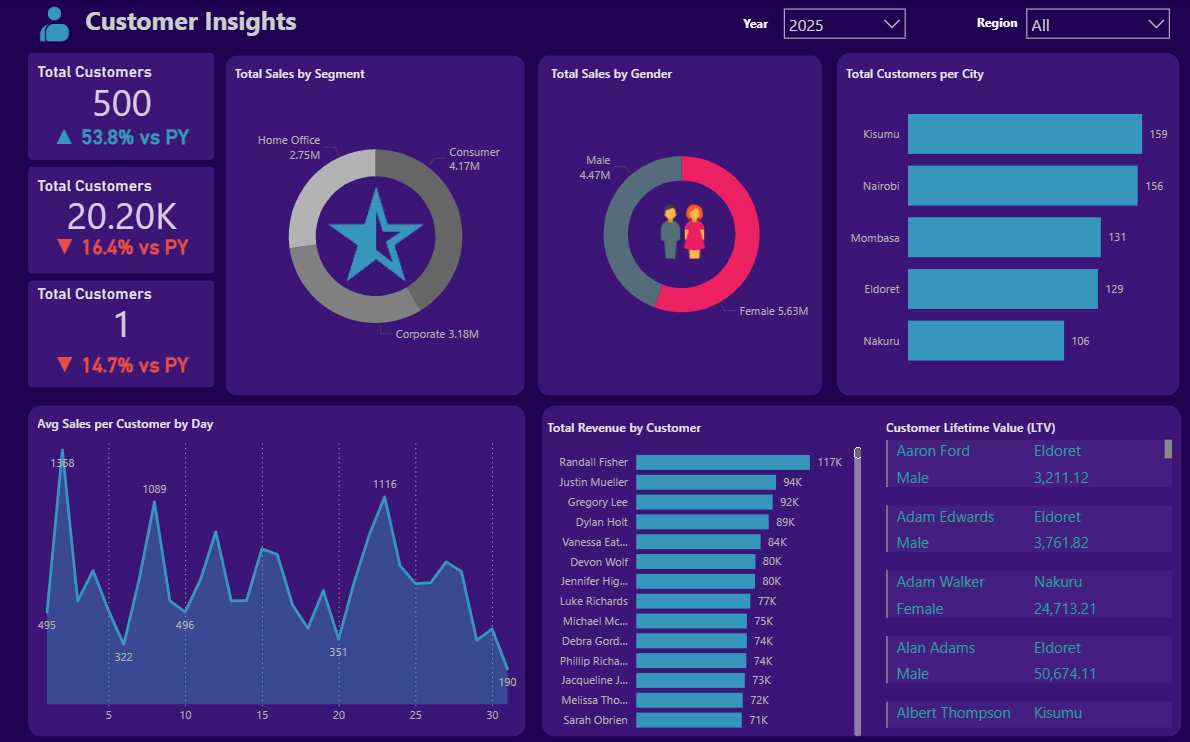

This screenshot's page, from the dashboard's own definition file:
{"tool":"powerbi","page":{"name":"Customer Insights","canvas":[1280,800],"ordinal":3},"visuals":[{"type":"shape","box":[244.3,60.4,321.1,365],"z":0},{"type":"image","box":[338.9,189.4,133.1,135.8],"z":1000},{"type":"donutChart","fields":{"Category":["Customers.Segment"],"Y":["All Measures.Total Sales"]},"box":[244.3,60.4,321.1,365],"z":2000},{"type":"shape","box":[31.6,57.6,200,115],"z":3000},{"type":"slicer","fields":{"Values":["Orders.OrderDate.Variation.Date Hierarchy.Year"]},"box":[832.9,0,150.9,49.4],"z":4000},{"type":"shape","box":[31.6,435,533.8,355.4],"z":5000},{"type":"shape","box":[898.8,57.6,367.8,367.8],"z":6000},{"type":"shape","box":[583.2,435,686.1,355.4],"z":7000},{"type":"slicer","fields":{"Values":["Customers.City"]},"box":[1092.3,0,174.3,49.4],"z":8000},{"type":"textbox","box":[1005.8,11,93.3,30.2],"z":9000},{"type":"textbox","box":[779.4,12.3,52.1,30.2],"z":10000},{"type":"textbox","box":[87.8,0,607.9,57.6],"z":11000},{"type":"shape","box":[31.6,179.8,200,115],"z":12000},{"type":"shape","box":[31.6,301.9,200,115],"z":13000},{"type":"card","title":"Total Customers","fields":{"Values":["All Measures.Total Customers"]},"box":[31.6,57.6,200.3,78.2],"z":14000},{"type":"card","fields":{"Values":["All Measures.Customers Growth vs PY"]},"box":[31.6,123.5,200.3,49.4],"z":15000},{"type":"card","title":"Total Customers","fields":{"Values":["All Measures.Avg Sales per Customer"]},"box":[31.6,179.8,200.3,78.2],"z":16000},{"type":"card","title":"Total Customers","fields":{"Values":["All Measures.Avg Orders per Customer"]},"box":[31.6,295,200.3,78.2],"z":17000},{"type":"card","fields":{"Values":["All Measures.Avg Sales per Customer Growth vs PY"]},"box":[31.6,241.5,200.3,49.4],"z":18000},{"type":"card","fields":{"Values":["All Measures.Avg Orders per Customer Growth vs PY"]},"box":[31.6,367.8,200.3,49.4],"z":19000},{"type":"shape","box":[579.1,60.4,304.6,365],"z":20000},{"type":"pieChart","fields":{"Category":["Customers.Gender"],"Y":["All Measures.Total Sales"]},"box":[583.2,60.4,299.1,360.9],"z":21000},{"type":"image","box":[698.5,212.7,71.4,71.4],"z":22000},{"type":"image","box":[31.6,0,56.3,53.5],"z":23000},{"type":"barChart","title":"Total Customers per City","fields":{"Category":["Customers.City"],"Y":["CountNonNull(Orders.CustomerID)"]},"box":[898.8,60.4,367.8,360.9],"z":24000},{"type":"lineChart","fields":{"Category":["Orders.OrderDate.Variation.Date Hierarchy.Day"],"Y":["All Measures.Avg Sales per Customer"]},"box":[31.6,435,533.8,355.4],"z":25000},{"type":"barChart","title":"Total Revenue by Customer","fields":{"Category":["Customers.Name"],"Y":["All Measures.Total Sales"]},"box":[579.1,439.1,356.8,360.9],"z":26000},{"type":"multiRowCard","title":"Customer Lifetime Value (LTV)","fields":{"Values":["Customers.Name","Customers.City","Customers.Gender","All Measures.Total Sales"]},"box":[942.7,439.1,326.6,351.3],"z":27000}]}

Visuals, with their boxes in screenshot pixels (x1, y1, x2, y2), scaled from the page's 1280x800 canvas onto the 1190x742 screenshot:
shape: l=227, t=56, r=526, b=395
image: l=315, t=176, r=439, b=302
donutChart - Customers.Segment x All Measures.Total Sales: l=227, t=56, r=526, b=395
shape: l=29, t=53, r=215, b=160
slicer - Orders.OrderDate.Variation.Date Hierarchy.Year: l=774, t=0, r=915, b=46
shape: l=29, t=403, r=526, b=733
shape: l=836, t=53, r=1178, b=395
shape: l=542, t=403, r=1180, b=733
slicer - Customers.City: l=1015, t=0, r=1178, b=46
textbox: l=935, t=10, r=1022, b=38
textbox: l=725, t=11, r=773, b=39
textbox: l=82, t=0, r=647, b=53
shape: l=29, t=167, r=215, b=273
shape: l=29, t=280, r=215, b=387
"Total Customers" card: l=29, t=53, r=216, b=126
card - All Measures.Customers Growth vs PY: l=29, t=115, r=216, b=160
"Total Customers" card: l=29, t=167, r=216, b=239
"Total Customers" card: l=29, t=274, r=216, b=346
card - All Measures.Avg Sales per Customer Growth vs PY: l=29, t=224, r=216, b=270
card - All Measures.Avg Orders per Customer Growth vs PY: l=29, t=341, r=216, b=387
shape: l=538, t=56, r=822, b=395
pieChart - Customers.Gender x All Measures.Total Sales: l=542, t=56, r=820, b=391
image: l=649, t=197, r=716, b=264
image: l=29, t=0, r=82, b=50
"Total Customers per City" barChart: l=836, t=56, r=1178, b=391
lineChart - Orders.OrderDate.Variation.Date Hierarchy.Day x All Measures.Avg Sales per Customer: l=29, t=403, r=526, b=733
"Total Revenue by Customer" barChart: l=538, t=407, r=870, b=741
"Customer Lifetime Value (LTV)" multiRowCard: l=876, t=407, r=1180, b=733
